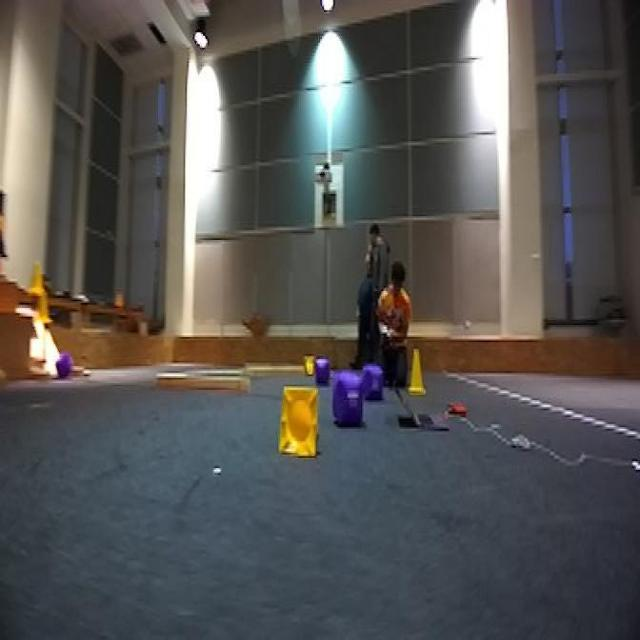frc_cone: (278, 385, 328, 466), (406, 347, 428, 393), (26, 264, 44, 299), (34, 293, 50, 328), (301, 354, 315, 376)
frc_cube: (335, 371, 366, 424), (361, 362, 386, 397), (52, 354, 77, 383), (312, 354, 332, 376)
